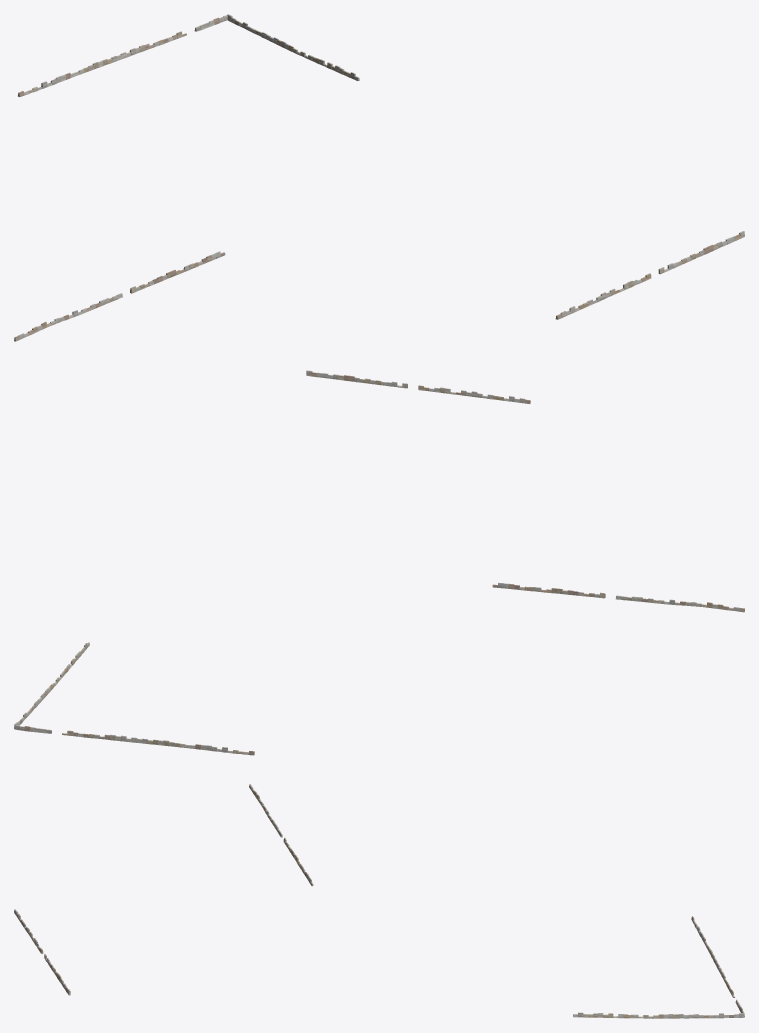
The model's file is farm_10_-2_mid.glb.
The picture shows the model from 3 angles, top to bottom: view 1: azimuth 30°, elevation 25°; view 2: azimuth 150°, elevation 25°; view 3: azimuth 270°, elevation 25°; orthographic projection. The views are drawn at different scales.
Visible parts, largest first — view 1: geometry_0; view 2: geometry_0; view 3: geometry_0.
Part boxes in pixels (x1,y1,x2,y2): geometry_0: [14, 14, 744, 341]; geometry_0: [14, 370, 744, 755]; geometry_0: [14, 784, 744, 1018].
Size of the model in its own units: 177 by 21.34 by 230.
